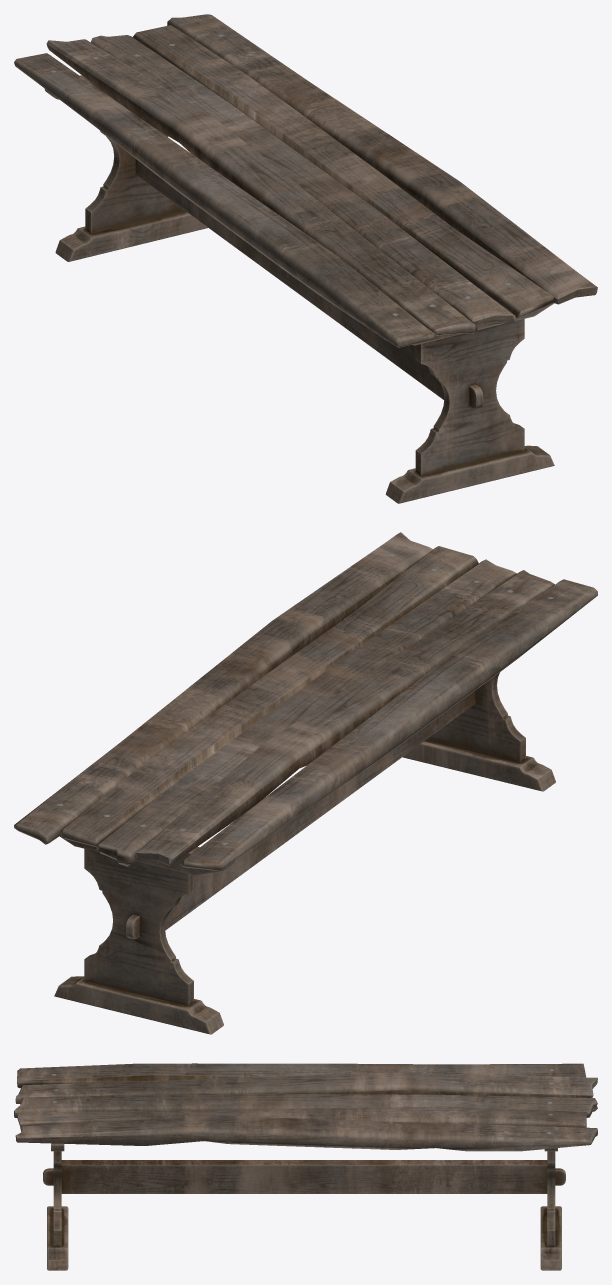
Rendered from SM_table_01.fbx.
The picture shows the model from 3 angles, top to bottom: view 1: azimuth 30°, elevation 25°; view 2: azimuth 150°, elevation 25°; view 3: azimuth 270°, elevation 25°; orthographic projection. The views are drawn at different scales.
Parts seen in each view (by area): view 1: SM_table_01_LOD0; view 2: SM_table_01_LOD0; view 3: SM_table_01_LOD0.
Part boxes in pixels (box(x1,y1,x2,y2)): SM_table_01_LOD0: box(14, 14, 597, 503); SM_table_01_LOD0: box(14, 532, 597, 1034); SM_table_01_LOD0: box(14, 1063, 597, 1270).
Size of the model in its own units: 103 by 339 by 95.53.
Materials: 1 (1 with a texture image).
